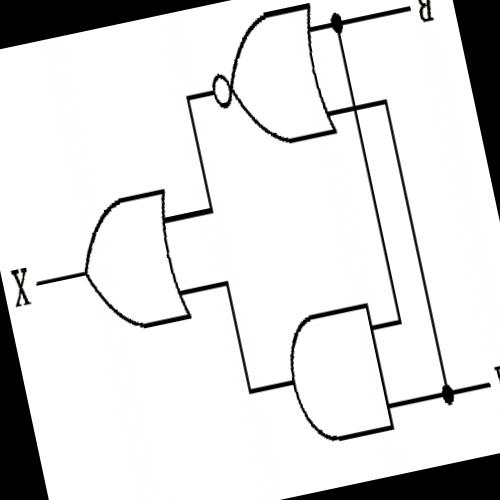and: (272, 294, 398, 456)
nor: (191, 0, 343, 168)
or: (64, 179, 198, 345)
